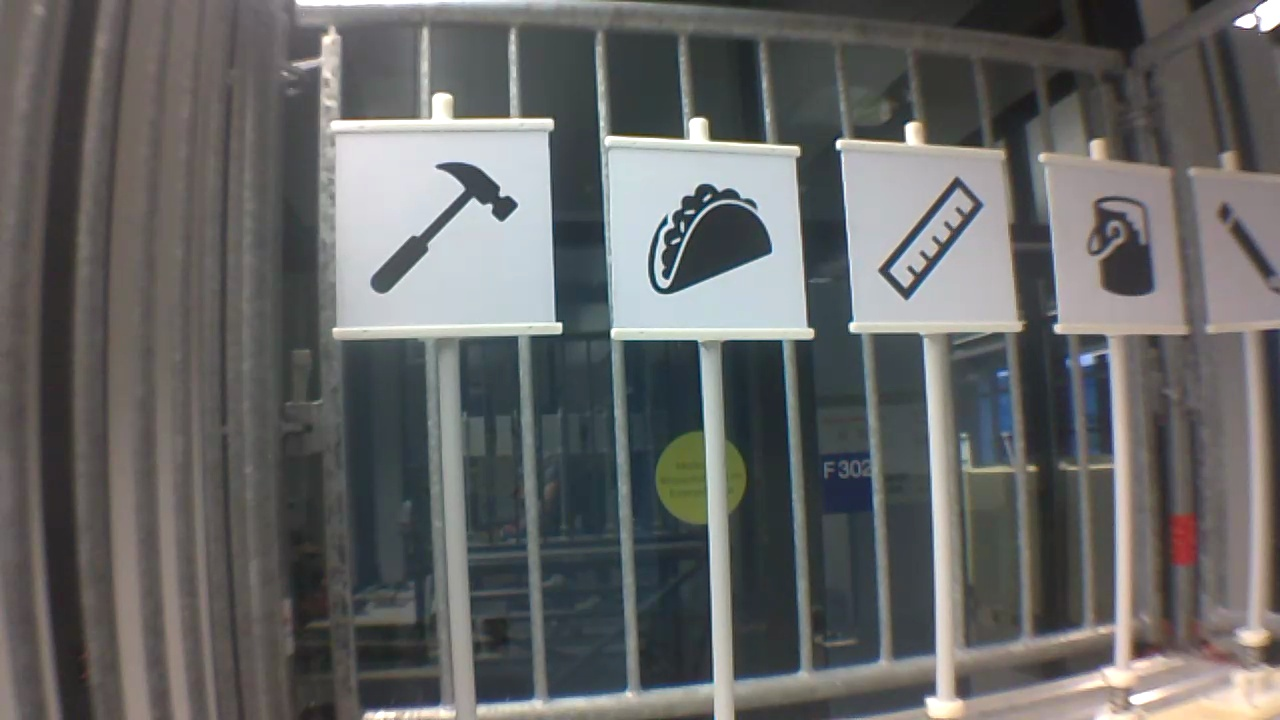bucket: (1075, 186, 1163, 300)
hammer: (363, 157, 525, 295)
pencil: (1211, 198, 1280, 296)
ruler: (872, 169, 991, 304)
taco: (644, 176, 779, 299)
